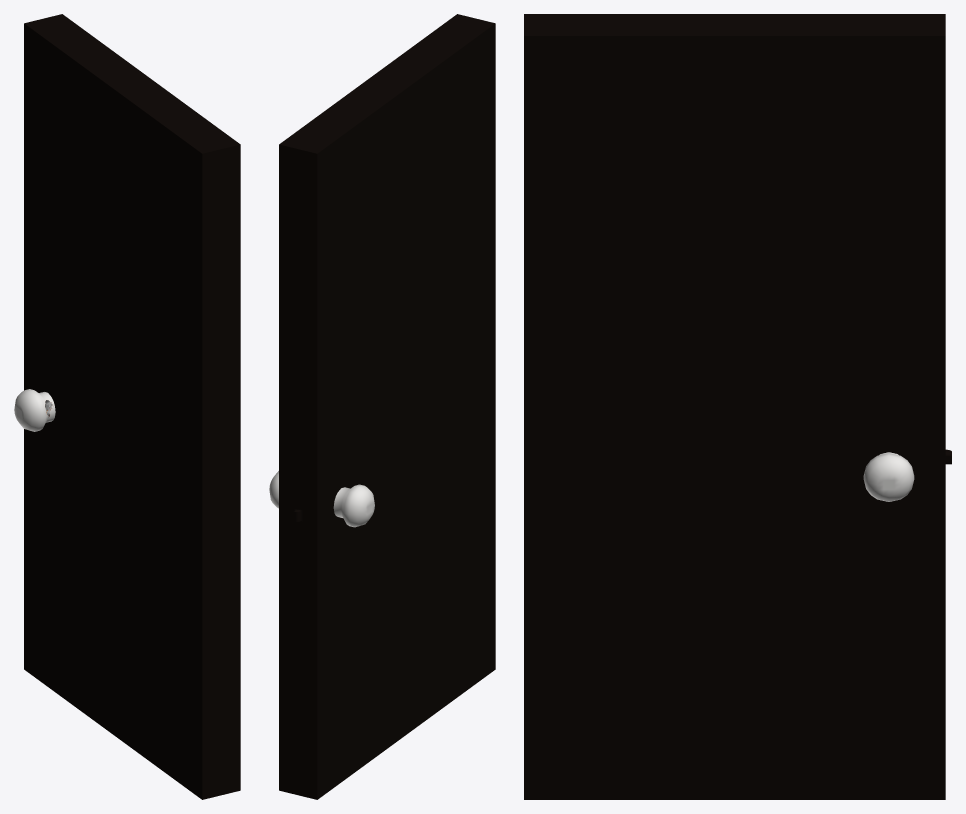
The model's file is door.fbx.
3 renders of one model, left to right at view 1: azimuth 30°, elevation 25°; view 2: azimuth 150°, elevation 25°; view 3: azimuth 270°, elevation 25°, orthographic. The views are drawn at different scales.
Parts seen in each view (by area): view 1: door; view 2: door; view 3: door.
Part boxes in pixels (box(x1,y1,x2,y2)): door: box(14, 14, 240, 799); door: box(269, 14, 495, 799); door: box(524, 14, 951, 799).
Size of the model in its own units: 61.88 by 400 by 203.
